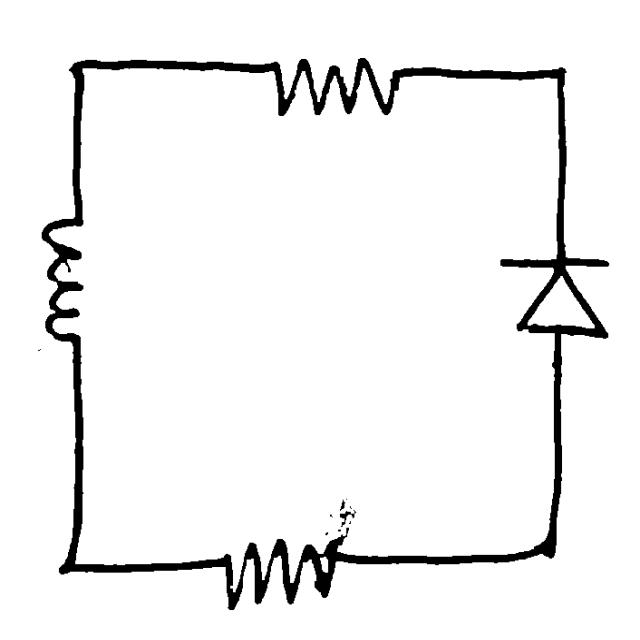diode: (489, 240, 621, 352)
inductor: (34, 206, 108, 366)
resistor: (201, 528, 348, 620), (262, 51, 417, 126)
